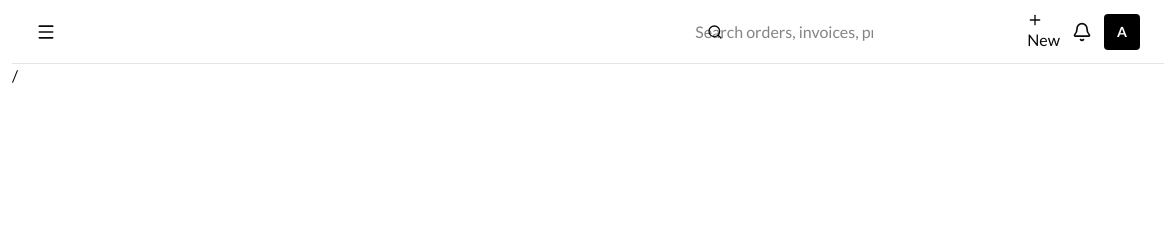
Test: no notifications → no badge, panel shows the empty state
Step 1. Click the button named "notifications" → point(1082, 32), box [1072,22,1092,42]
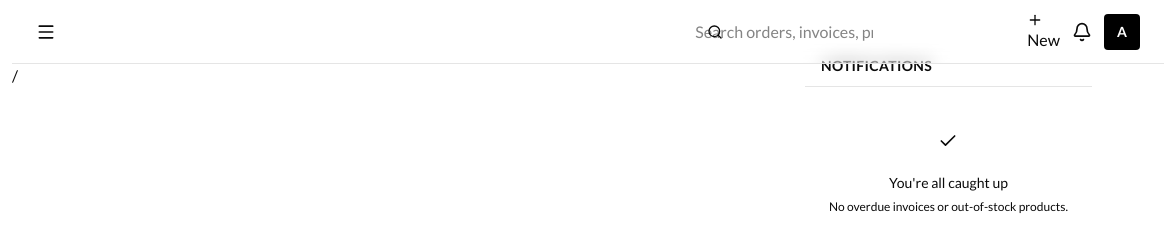
Expected: the text "You're all caught up" is shown, [889,173,1008,193]
